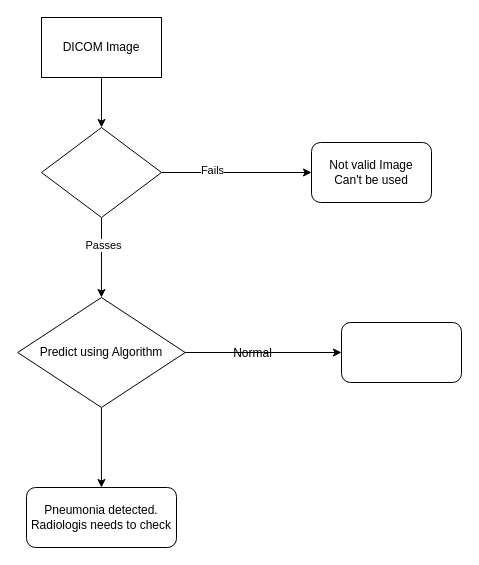
This 479x565 diagram has some shape labels left out. Each missing label, with the box of its shape:
DICOM Checks: (40, 126, 162, 218)
Person is healthy and on't have pneumonia symptoms: (340, 322, 462, 382)
